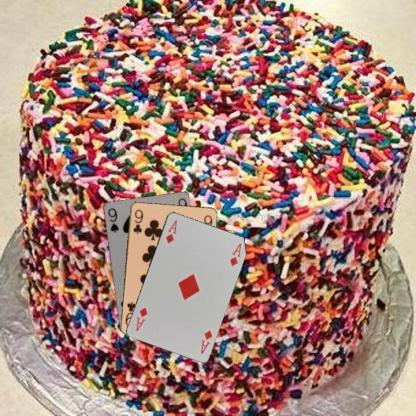9c: (130, 206, 144, 236)
9s: (105, 205, 120, 234)
Ad: (198, 327, 214, 354), (163, 218, 178, 245)
